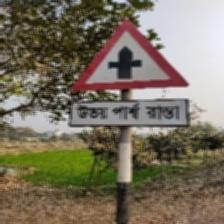Crossroad: (70, 18, 193, 131)
